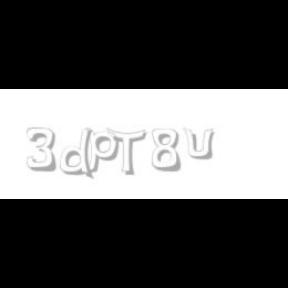3: (26, 128, 58, 172)
8: (152, 128, 180, 172)
T: (106, 128, 146, 176)
d: (61, 128, 98, 180)
p: (86, 128, 122, 174)
u: (182, 128, 217, 160)
